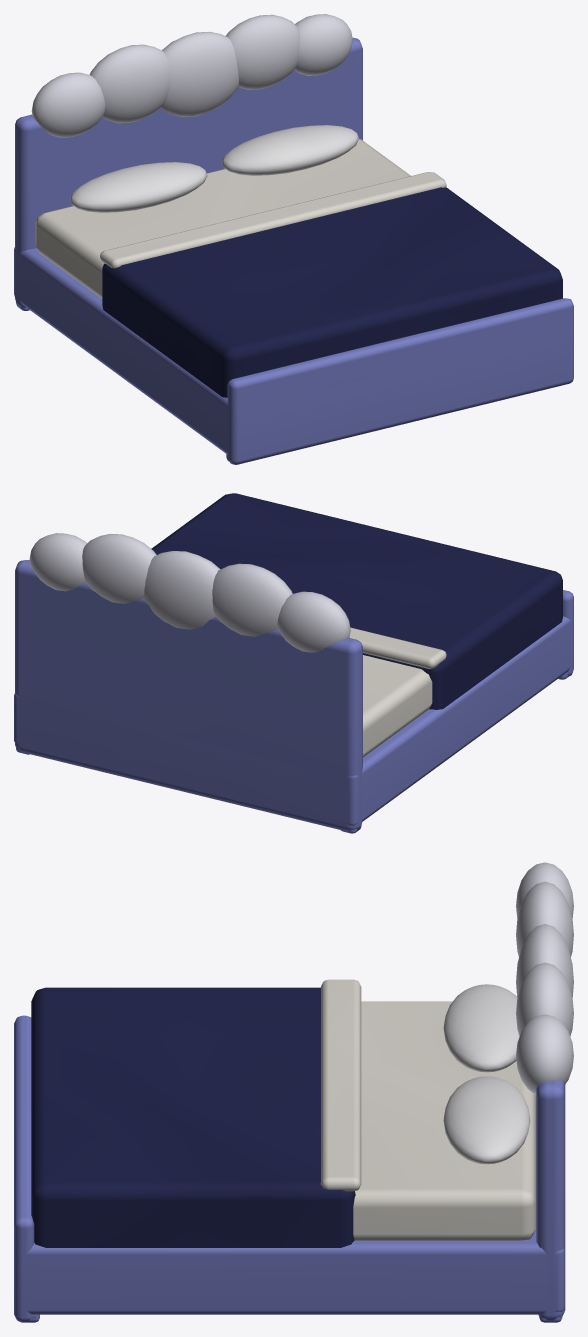
The model's file is furn_cloud_bed.glb.
The picture shows the model from 3 angles, top to bottom: view 1: azimuth 30°, elevation 25°; view 2: azimuth 150°, elevation 25°; view 3: azimuth 270°, elevation 25°; orthographic projection. The views are drawn at different scales.
Parts seen in each view (by area): view 1: furn_cloud_bed_main; view 2: furn_cloud_bed_main; view 3: furn_cloud_bed_main.
Part boxes in pixels (x1,y1,x2,y2): furn_cloud_bed_main: (14, 14, 573, 464); furn_cloud_bed_main: (14, 493, 573, 833); furn_cloud_bed_main: (14, 862, 573, 1322).
Size of the model in its own units: 1.7 by 1.13 by 1.93.
